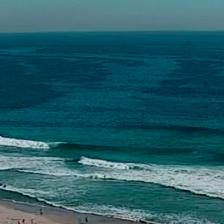surfer: (103, 175, 106, 178)
